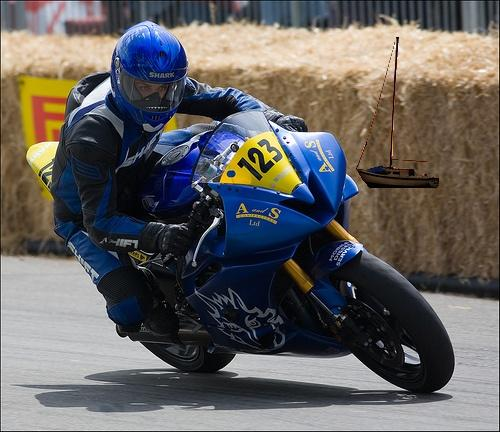tampered: (357, 38, 439, 188)
